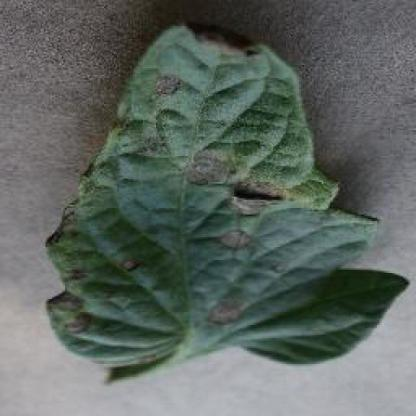Tomato_Blight: (45, 24, 408, 364)
